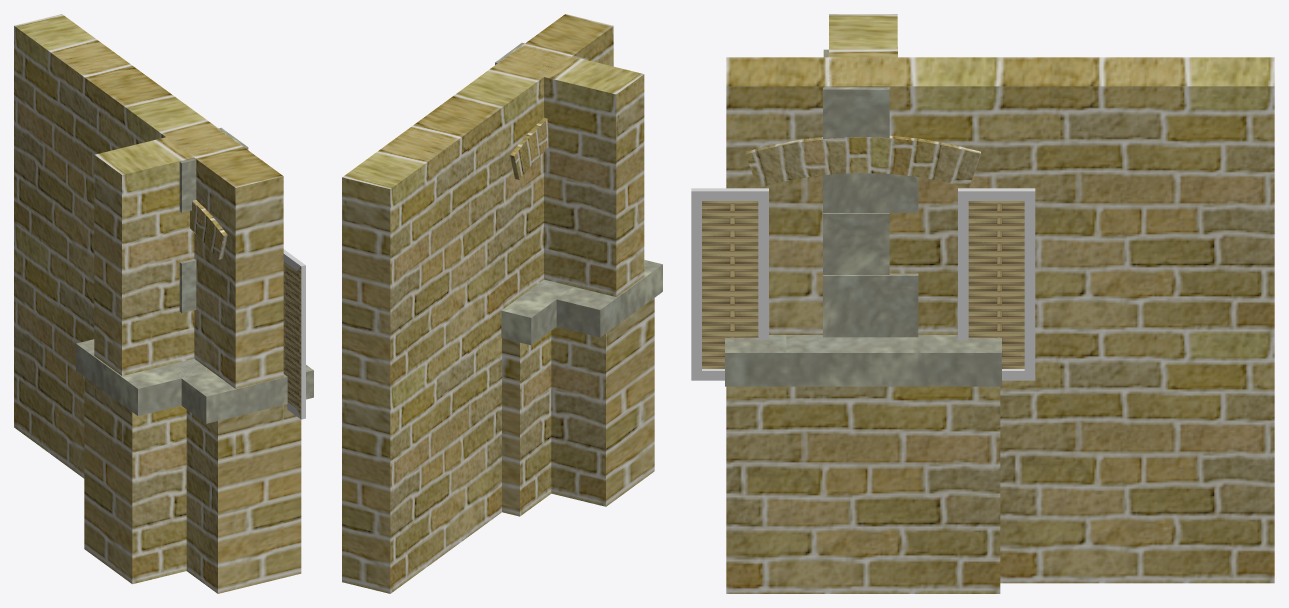
Rendered from sepia-brick-house.glb.
The picture shows the model from 3 angles, left to right: view 1: azimuth 30°, elevation 25°; view 2: azimuth 150°, elevation 25°; view 3: azimuth 270°, elevation 25°; orthographic projection. The views are drawn at different scales.
Visible parts, largest first — view 1: SepiaBrickWallWide, SepiaBrickWall, SepiaBrickWallCorner, SepiaBrickWallWindow, SepiaBrickWallSquatCorner, SepiaBrickWallSquat, SepiaBrickWallGable, SepiaBrickWallCornerBlocks; view 2: SepiaBrickWallWide, SepiaBrickWallCorner, SepiaBrickWallSquatCorner, SepiaBrickWallSquat, SepiaBrickWall, SepiaBrickWallGable, SepiaBrickWallWindow; view 3: SepiaBrickWallWide, SepiaBrickWallSquat, SepiaBrickWallWindow, SepiaBrickWall, SepiaBrickWallCorner, SepiaBrickWallCornerBlocks, SepiaBrickWallGable, SepiaBrickWallSquatCorner.
Boxes of the visible parts, bbox=[...] form: SepiaBrickWallWide: bbox=[14, 14, 281, 478]; SepiaBrickWall: bbox=[132, 95, 283, 589]; SepiaBrickWallCorner: bbox=[94, 95, 240, 576]; SepiaBrickWallWindow: bbox=[190, 159, 305, 588]; SepiaBrickWallSquatCorner: bbox=[76, 339, 210, 584]; SepiaBrickWallSquat: bbox=[165, 359, 313, 593]; SepiaBrickWallGable: bbox=[15, 412, 282, 588]; SepiaBrickWallCornerBlocks: bbox=[179, 127, 248, 313]; SepiaBrickWallWide: bbox=[342, 14, 613, 593]; SepiaBrickWallCorner: bbox=[454, 44, 644, 482]; SepiaBrickWallSquatCorner: bbox=[501, 260, 662, 516]; SepiaBrickWallSquat: bbox=[501, 279, 573, 516]; SepiaBrickWall: bbox=[455, 14, 613, 107]; SepiaBrickWallGable: bbox=[392, 412, 501, 592]; SepiaBrickWallWindow: bbox=[510, 26, 613, 179]; SepiaBrickWallWide: bbox=[726, 57, 1274, 583]; SepiaBrickWallSquat: bbox=[725, 335, 1001, 593]; SepiaBrickWallWindow: bbox=[691, 86, 1035, 380]; SepiaBrickWall: bbox=[726, 57, 1000, 334]; SepiaBrickWallCorner: bbox=[828, 14, 1000, 334]; SepiaBrickWallCornerBlocks: bbox=[823, 49, 918, 337]; SepiaBrickWallGable: bbox=[1000, 459, 1273, 583]; SepiaBrickWallSquatCorner: bbox=[786, 335, 1001, 589].
Size of the model in its own units: 0.7865 by 2 by 2.13.
Materials: 4 (3 with a texture image).
